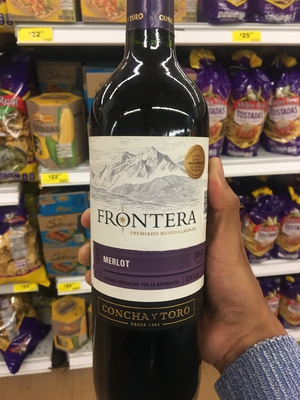frontera merlot: (87, 16, 223, 395)
